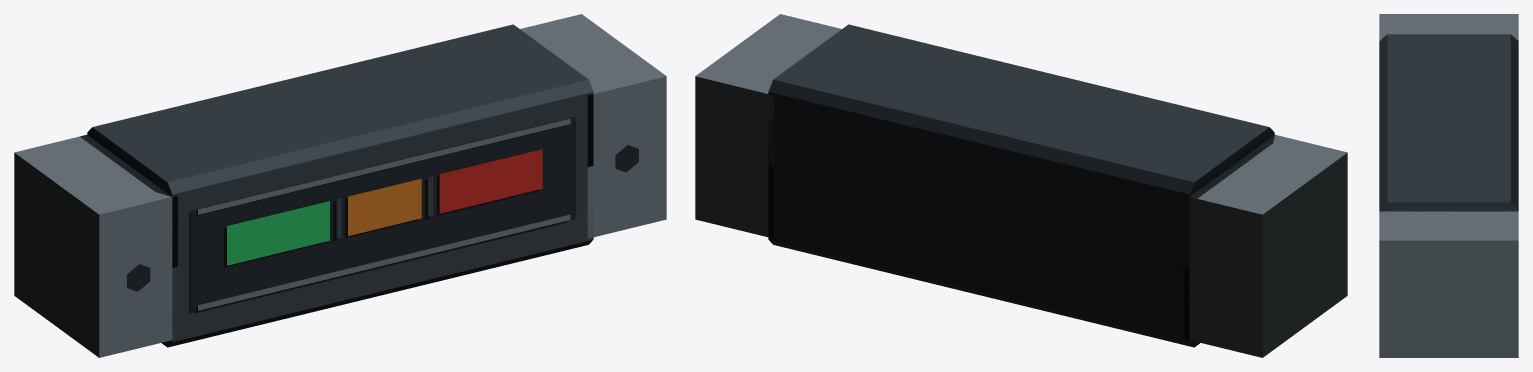
File: 0-20261016-1900-ev048-r08-floor5-statuslightmount_baked.glb
3 views of the same model, side by side, from view 1: azimuth 30°, elevation 25°; view 2: azimuth 150°, elevation 25°; view 3: azimuth 270°, elevation 25° (orthographic). The views are drawn at different scales.
Visible parts, largest first — view 1: SW_Ops_StatusLightMount; view 2: SW_Ops_StatusLightMount; view 3: SW_Ops_StatusLightMount.
Boxes of the visible parts, left/top/right/bottom form: SW_Ops_StatusLightMount: left=14, top=14, right=666, bottom=357; SW_Ops_StatusLightMount: left=695, top=14, right=1347, bottom=357; SW_Ops_StatusLightMount: left=1379, top=14, right=1518, bottom=357.
Size of the model in its own units: 0.539 by 0.15 by 0.1432.
Materials: 1 (1 with a texture image).
